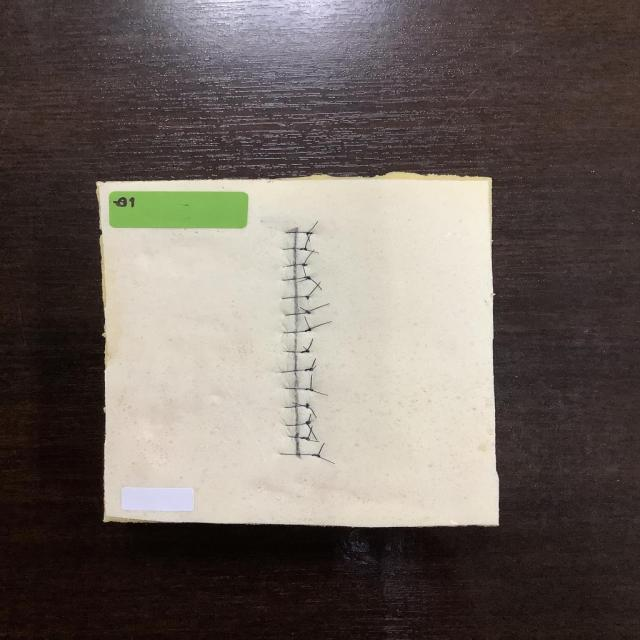knot: (297, 435, 312, 443), (298, 347, 312, 355), (309, 452, 323, 460), (301, 274, 314, 282), (302, 366, 316, 373), (302, 326, 314, 334), (297, 246, 310, 253), (303, 386, 316, 393), (303, 401, 312, 411), (303, 419, 314, 427), (303, 308, 314, 316), (304, 230, 315, 237), (303, 294, 312, 302), (300, 262, 310, 268)
leftover: (306, 302, 331, 313), (306, 281, 322, 298), (305, 421, 318, 441), (308, 320, 333, 330), (302, 248, 315, 266), (309, 278, 323, 291), (307, 220, 319, 234), (318, 456, 336, 465), (306, 407, 318, 419), (304, 233, 312, 250), (290, 401, 309, 408), (292, 277, 311, 284), (303, 315, 311, 330), (306, 337, 314, 352), (317, 442, 325, 457), (301, 264, 308, 281), (306, 425, 313, 440), (312, 390, 329, 396), (310, 357, 317, 370), (299, 306, 310, 313), (305, 249, 320, 254), (301, 345, 309, 352), (308, 439, 321, 443), (310, 374, 313, 391), (307, 413, 312, 423), (306, 232, 311, 242), (311, 365, 317, 370)
stitch: (278, 452, 321, 458), (282, 328, 312, 334), (280, 368, 314, 373), (284, 421, 312, 427), (280, 276, 312, 281), (284, 387, 314, 392), (286, 435, 311, 441), (281, 295, 310, 300), (284, 311, 311, 316), (281, 263, 308, 268), (283, 404, 309, 409), (281, 350, 310, 353), (285, 231, 314, 234), (282, 248, 308, 251)
wound: (293, 228, 300, 456)
